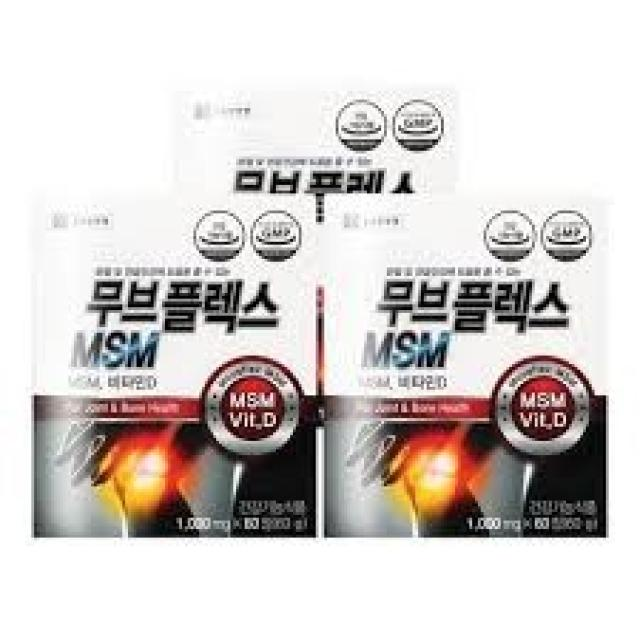GMP: (251, 206, 303, 266), (393, 99, 444, 153), (544, 209, 594, 261)
HEALTHY: (332, 98, 388, 154), (484, 208, 536, 262), (192, 208, 245, 260)
